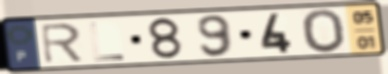4: (260, 11, 295, 55)
8: (146, 15, 186, 62)
9: (196, 13, 236, 59)
L: (87, 20, 128, 63)
O: (299, 8, 348, 55)
R: (38, 21, 85, 66)
